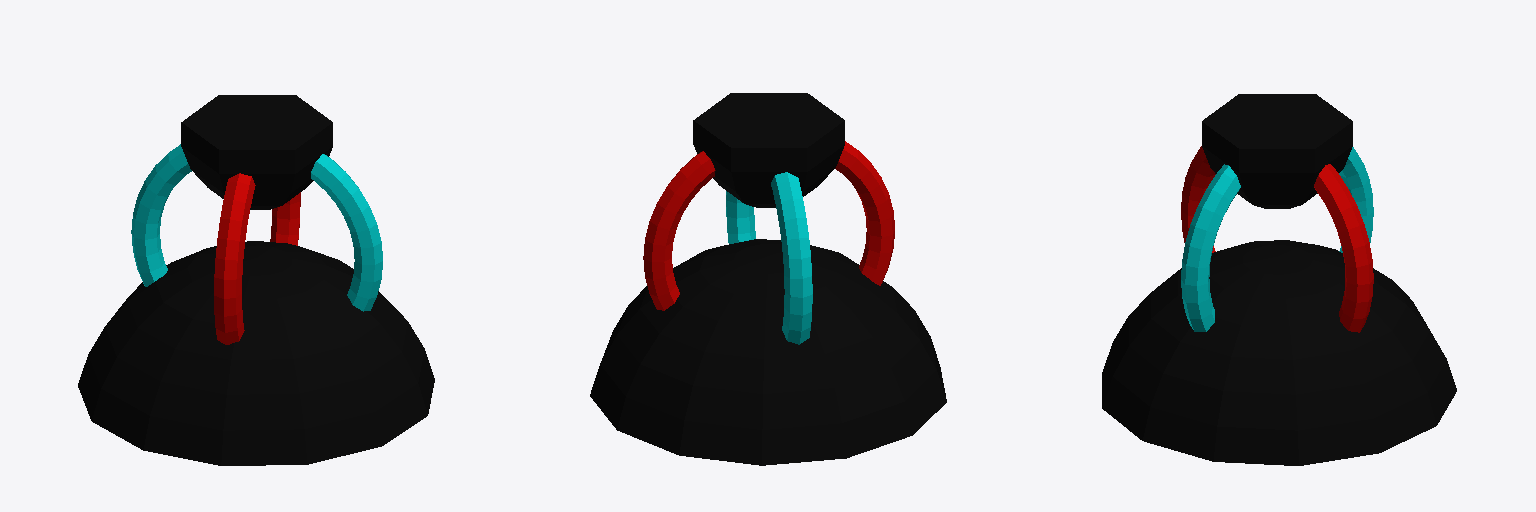
Rendered from RocketThruster_003.obj.
The picture shows the model from 3 angles: view 1: azimuth 30°, elevation 25°; view 2: azimuth 150°, elevation 25°; view 3: azimuth 270°, elevation 25°; orthographic projection.
Parts seen in each view (by area): view 1: Rocket_003_Sphere; view 2: Rocket_003_Sphere; view 3: Rocket_003_Sphere.
Part boxes in pixels (x1,y1,x2,y2): Rocket_003_Sphere: (78, 95, 434, 465); Rocket_003_Sphere: (590, 93, 946, 465); Rocket_003_Sphere: (1102, 94, 1456, 465).
Size of the model in its own units: 4.79 by 3.98 by 4.76.